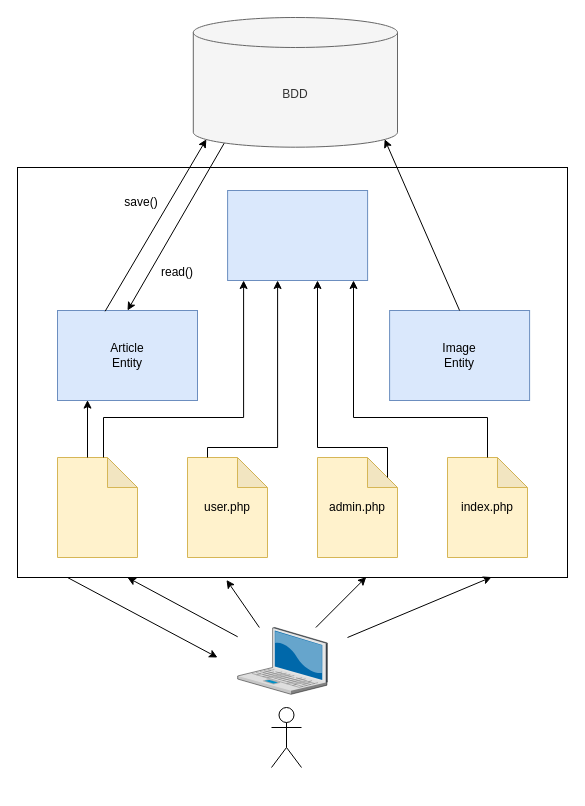
Image size: 585x806. Some labels were removed from this diagram. The shapes that lost their labels are listed below. From the top down, each one's centre as x and y in pixels, then its label:
At (x=297, y=235): "Session".
At (x=97, y=507): "article.php".
At (x=286, y=737): "Actor".
